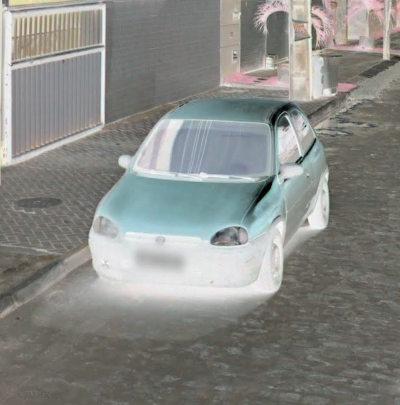car: (84, 93, 332, 294)
